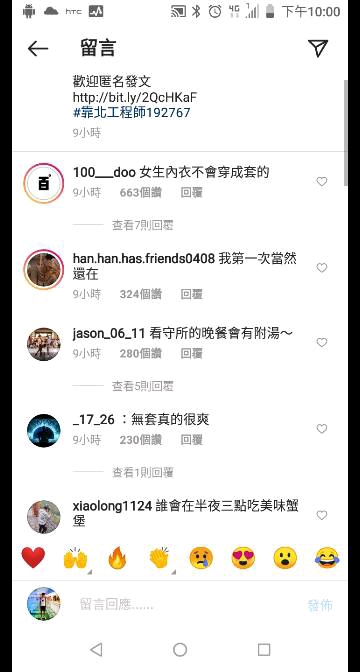back: (22, 34, 53, 64)
